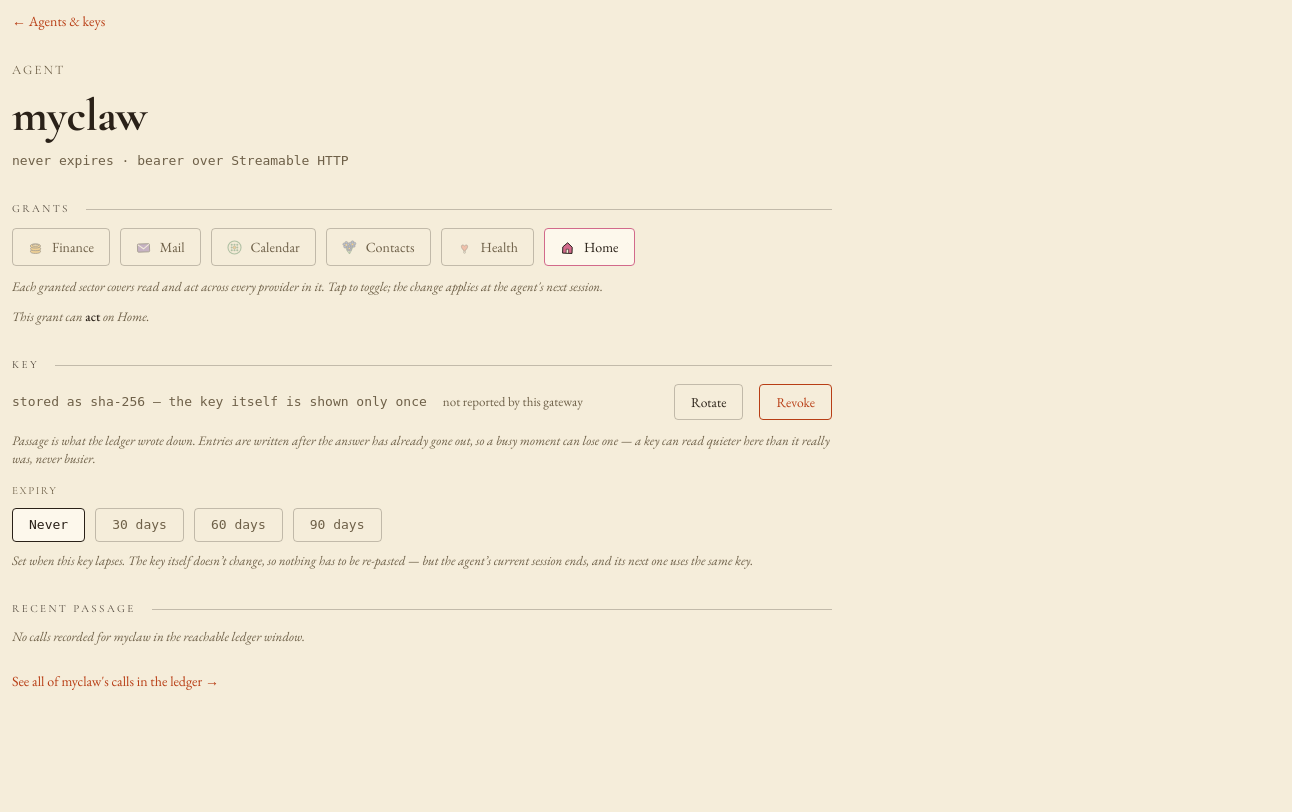
it: AgentDetailPage › an expiry click patches ONLY the expiry — and Never sends explicit null
Click the button "60 days" at (238, 525), box [194, 508, 283, 542]
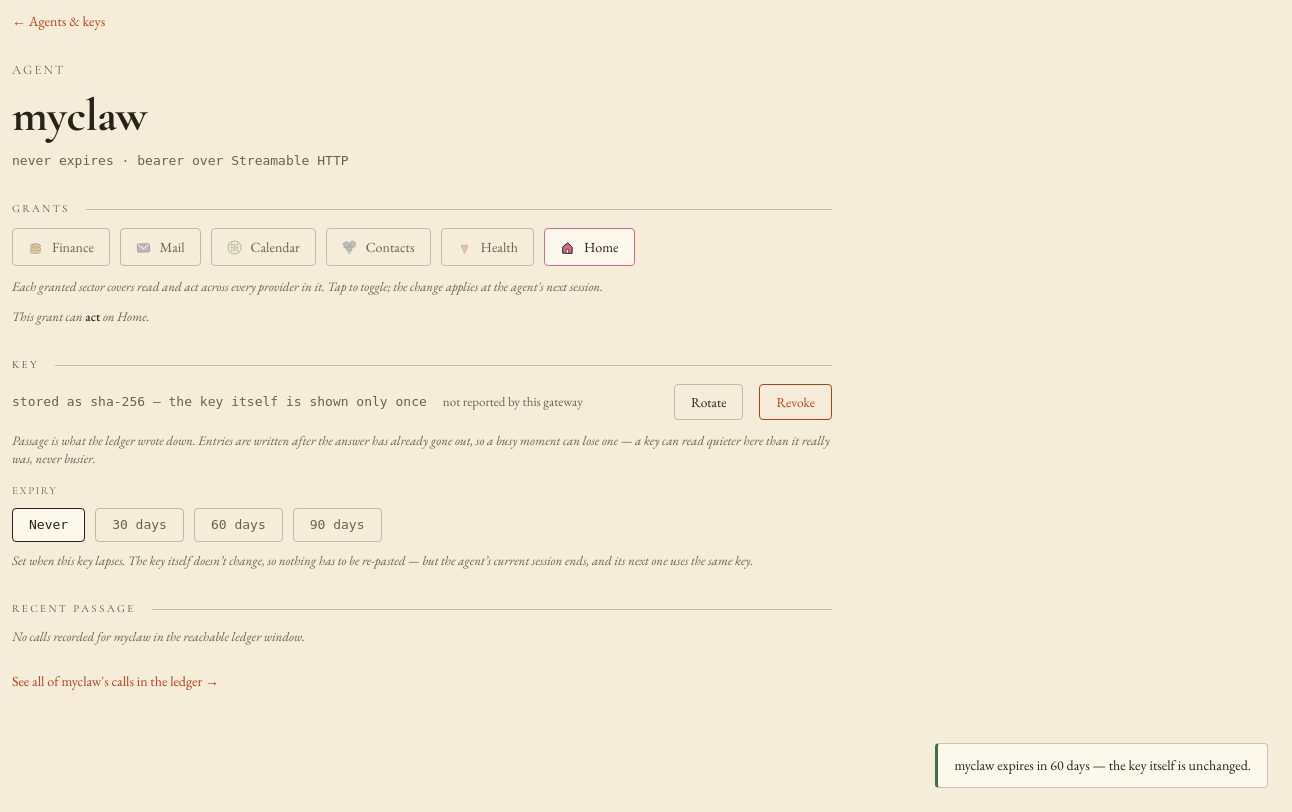
Expected: the text "myclaw expires in 60 days — the key itself is unchanged." is shown, [935, 743, 1268, 788]
Click the button "Never" at (49, 525), box [12, 508, 85, 542]
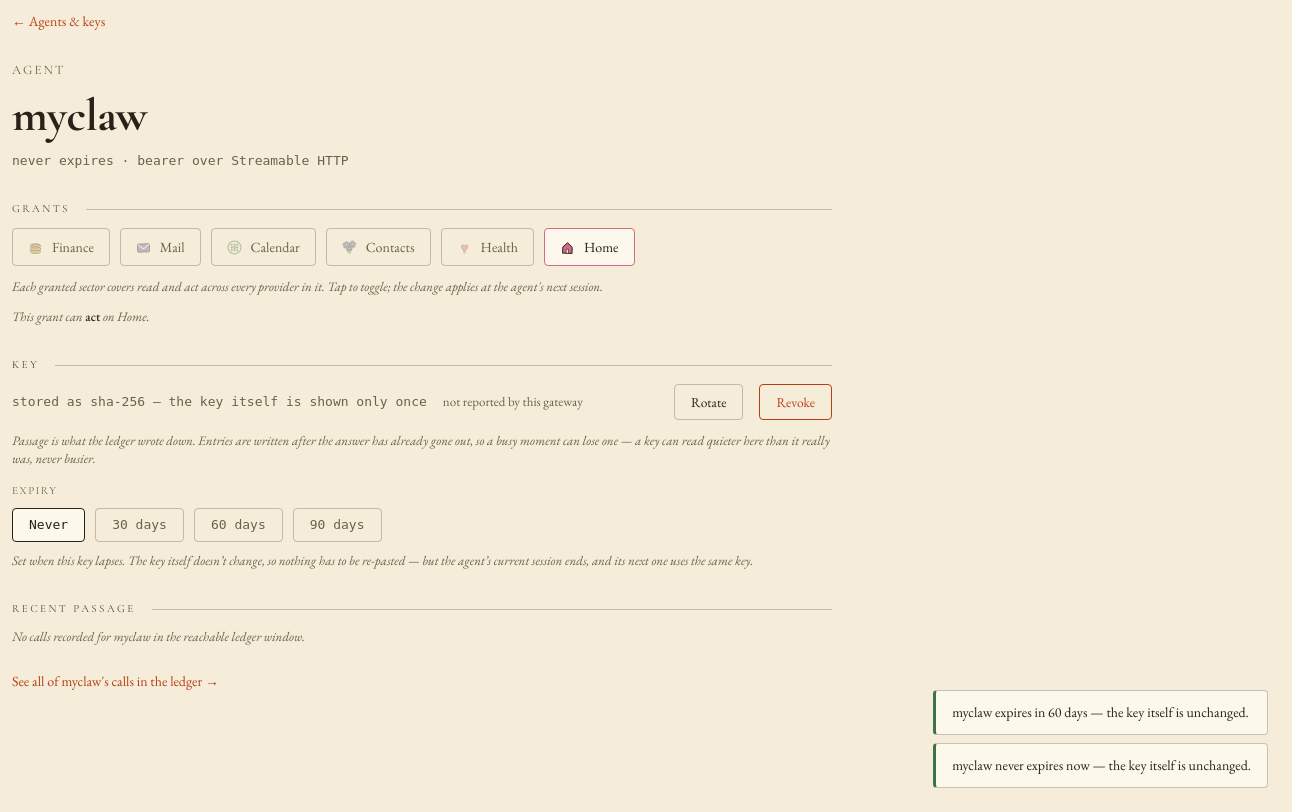
Expected: the text "myclaw never expires now — the key itself is unchanged." is shown, [933, 743, 1268, 788]
